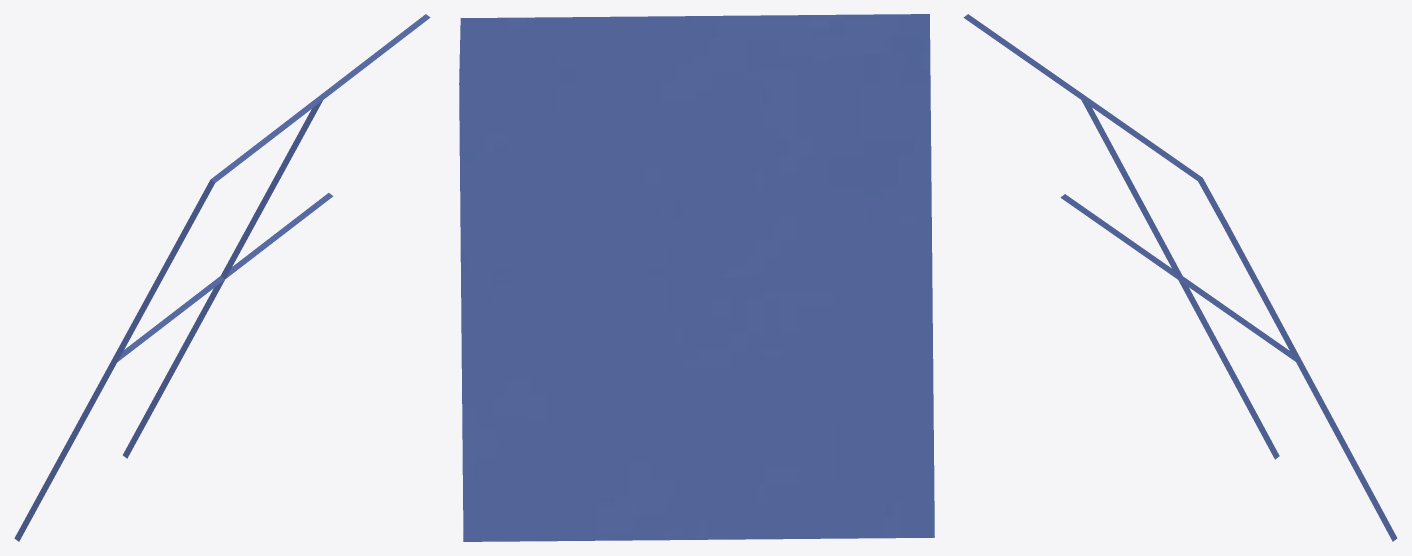
3 views of the same model, side by side, from view 1: azimuth 30°, elevation 25°; view 2: azimuth 150°, elevation 25°; view 3: azimuth 270°, elevation 25° (orthographic). The views are drawn at different scales.
Size of the model in its own units: 19687 by 17635 by 16840.
Materials: 1 (1 with a texture image).
